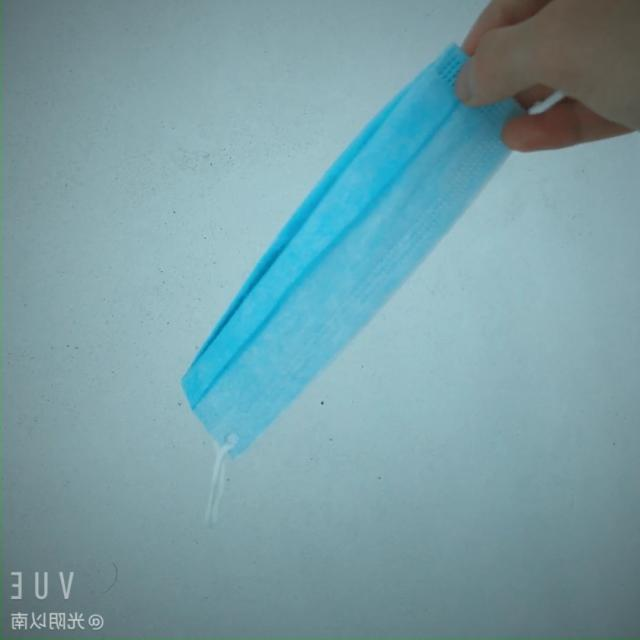face mask: (174, 58, 533, 456)
